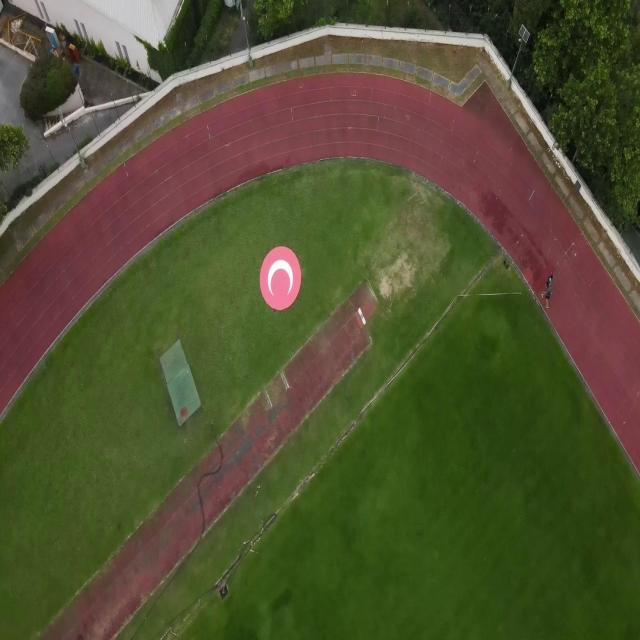p3rson: (540, 281, 553, 309), (545, 272, 554, 288)
